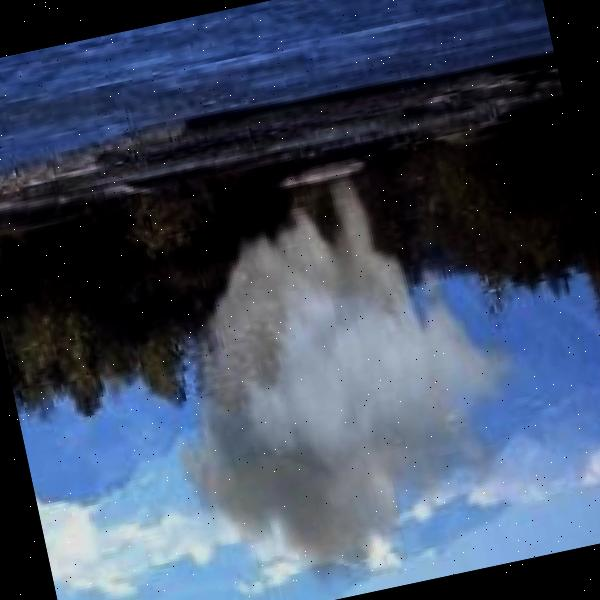smoke: (122, 135, 557, 600)
